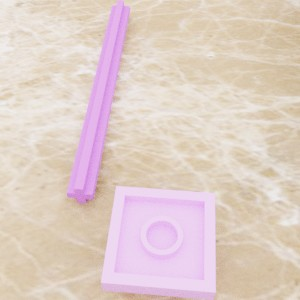lego: (100, 186, 215, 299), (66, 0, 130, 203)
